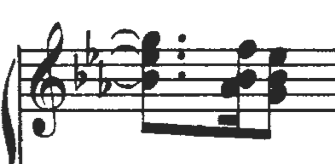flat: (81, 23, 101, 67), (94, 57, 114, 100), (72, 49, 90, 94)
treble_clef: (22, 15, 70, 146)
